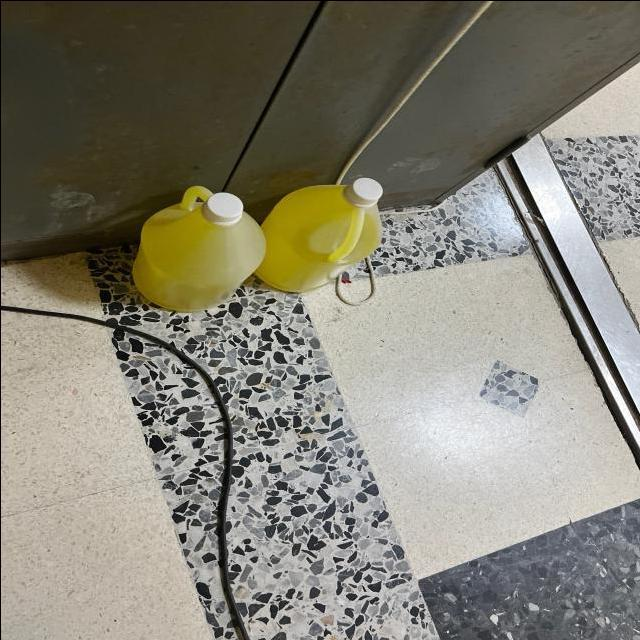HDPE Plastic: (126, 166, 271, 320), (258, 159, 386, 298)
